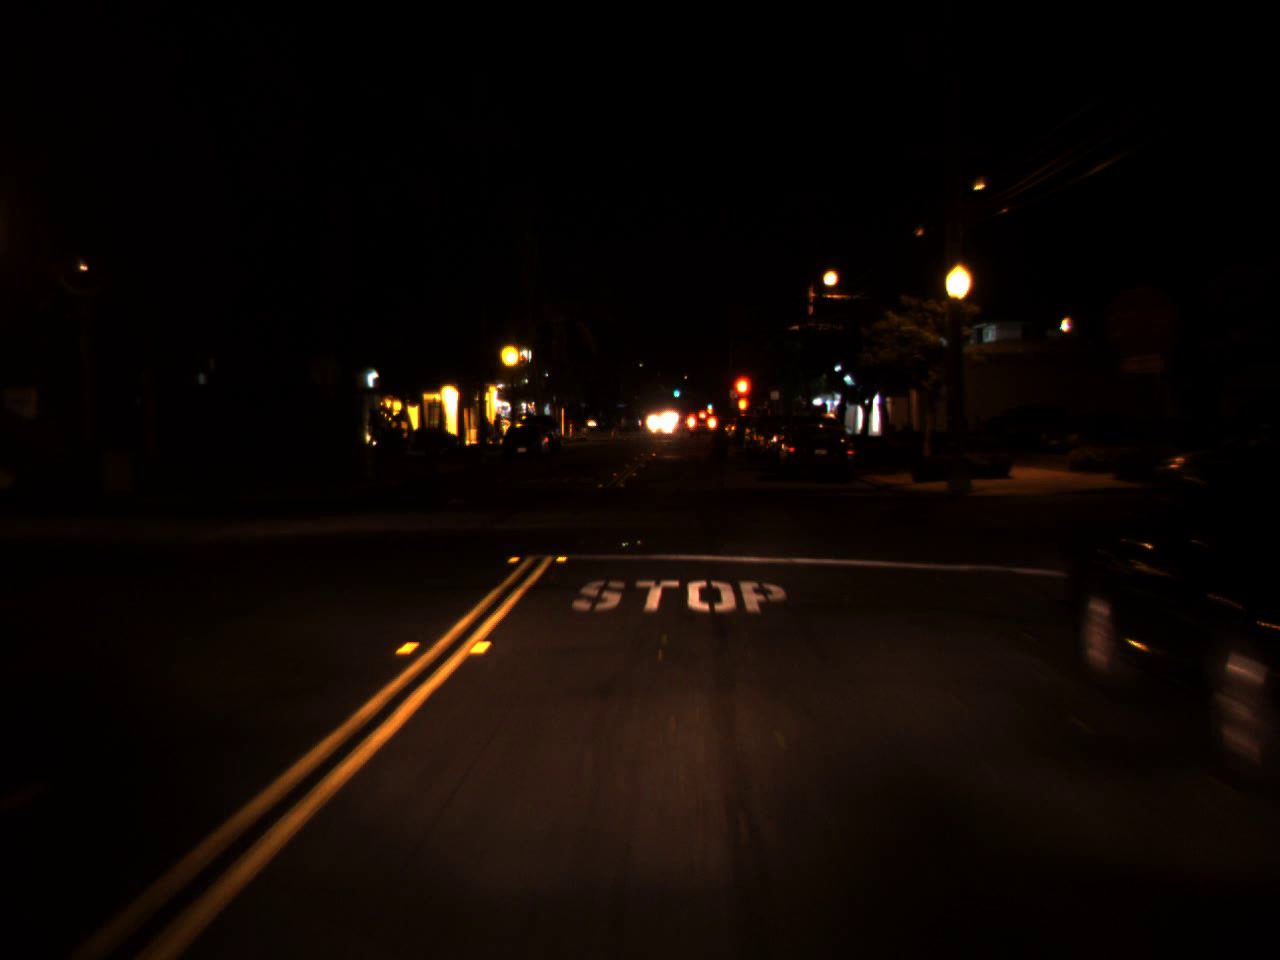go: (671, 383, 680, 398), (705, 397, 712, 409)
stop: (731, 373, 753, 421)
